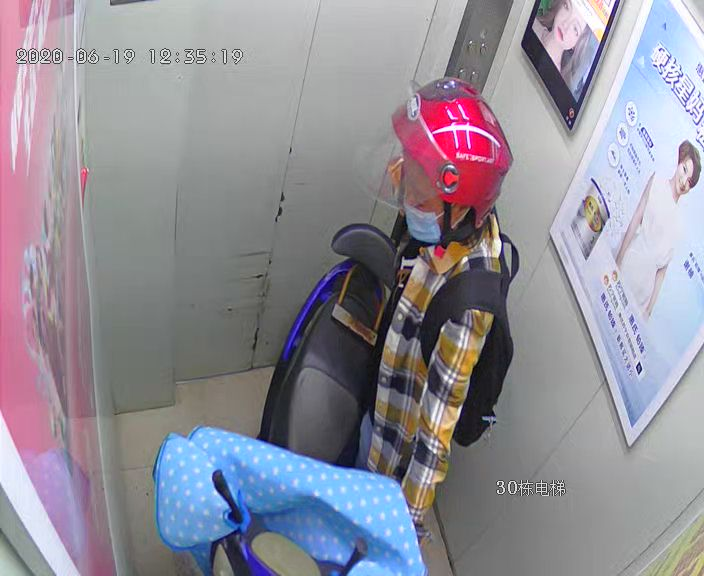Electric-bicycle: (171, 220, 424, 576)
